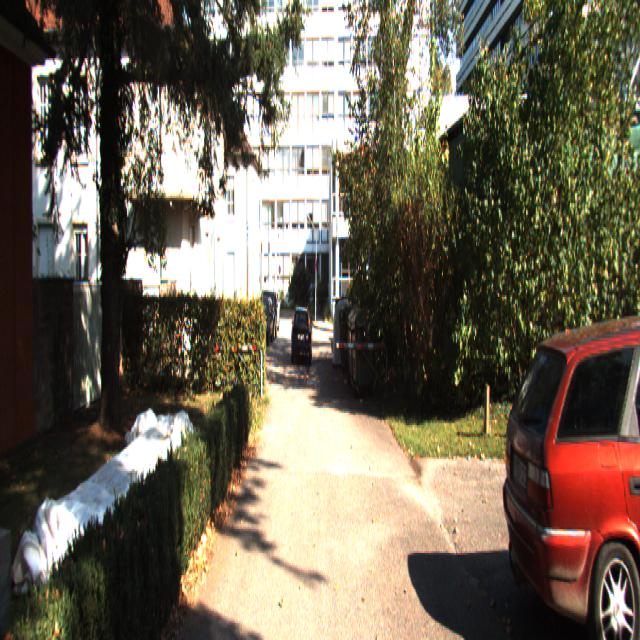Car: (500, 302, 640, 638), (291, 306, 312, 366), (253, 298, 274, 347)
